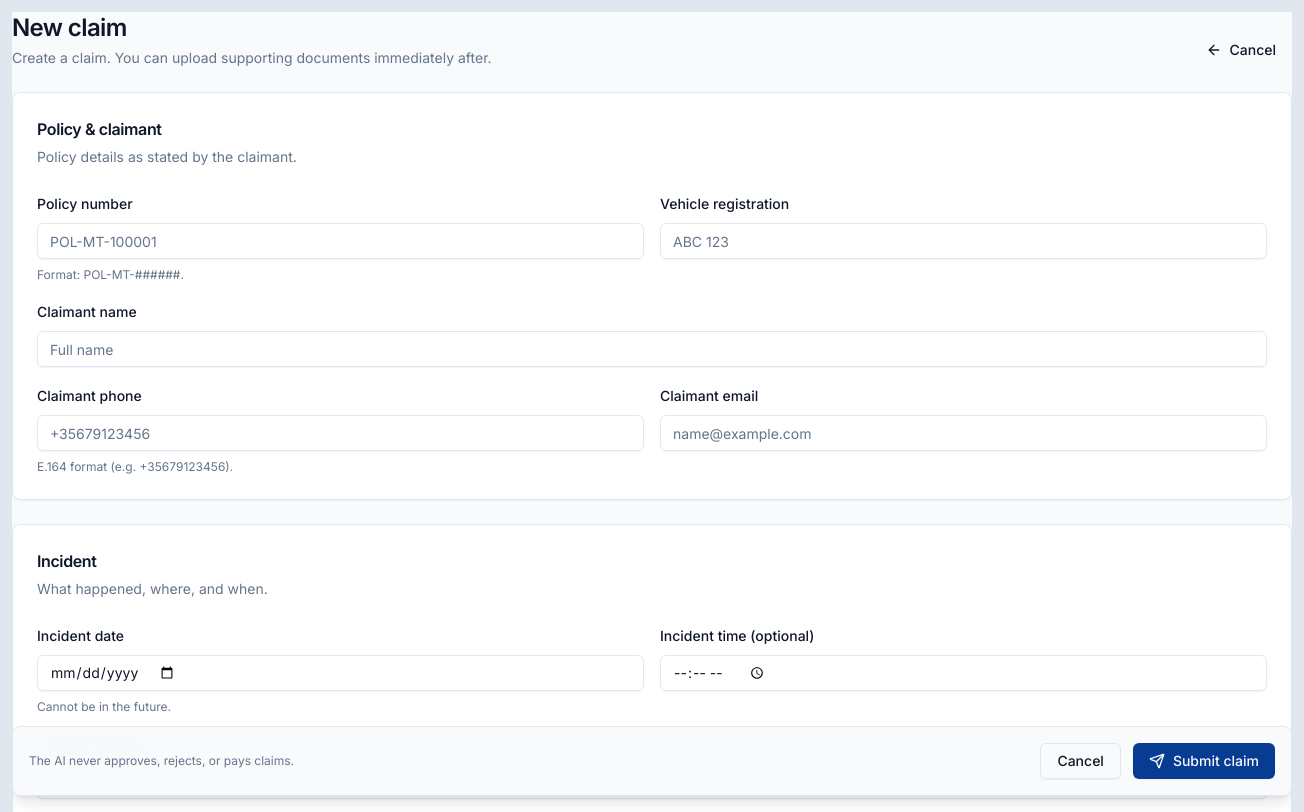
Test: NewClaimPage › shows required-field errors when submitted empty
The width and height of the screenshot is (1304, 812).
Click the button "Submit claim" at (1204, 761), box [1133, 743, 1275, 779]
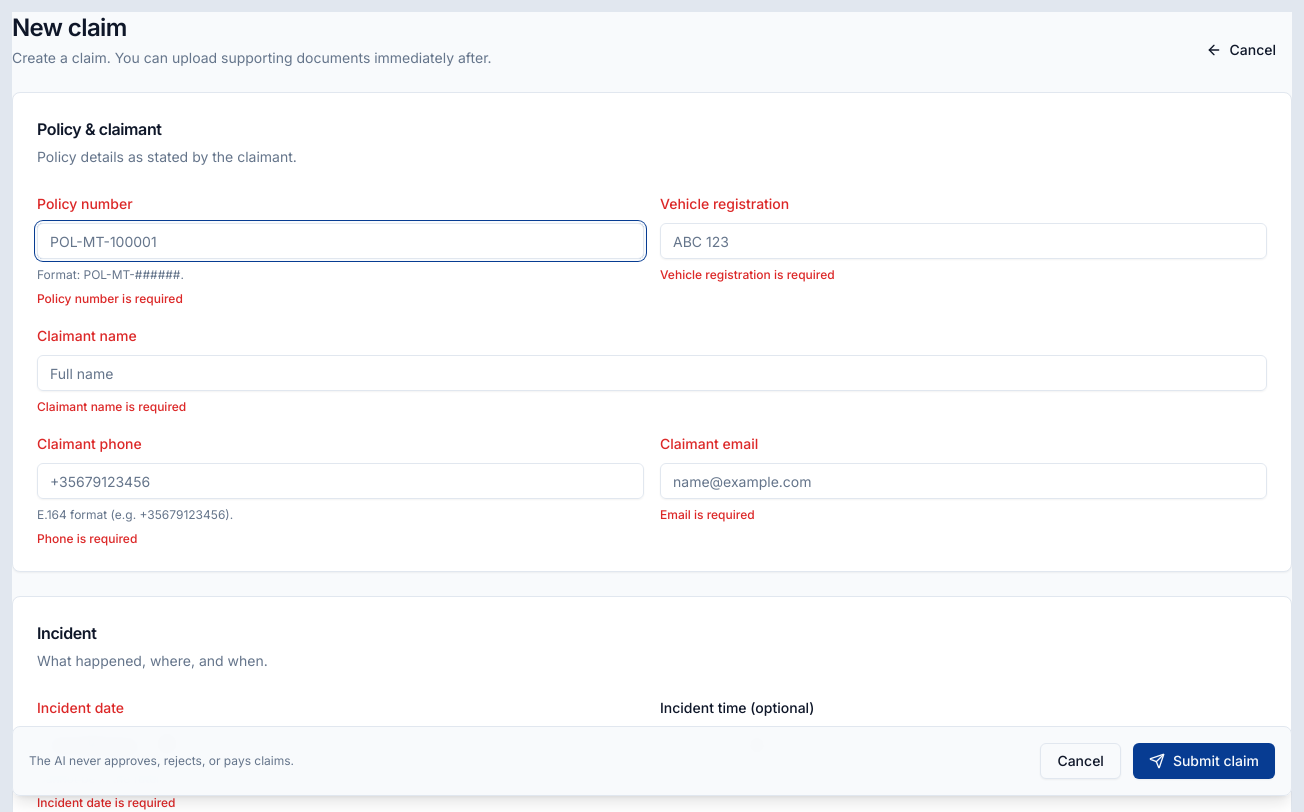
Now the text "Policy number is required" is shown, box [37, 291, 183, 306]
